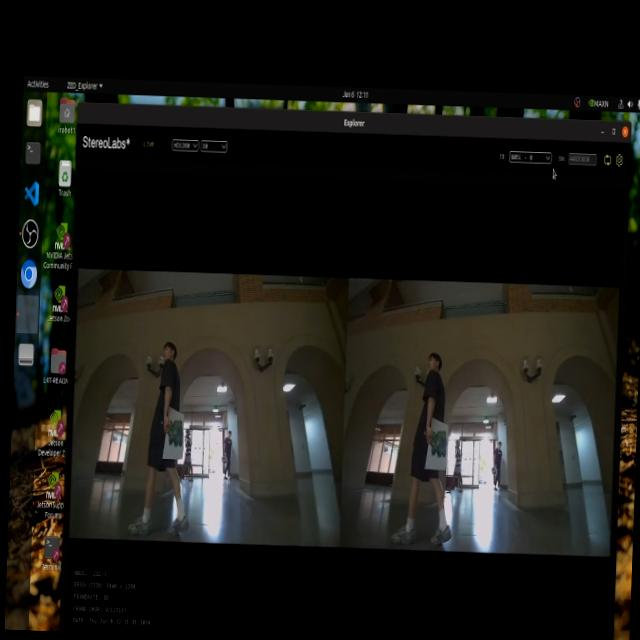green: (428, 428, 452, 462), (166, 416, 184, 445)
